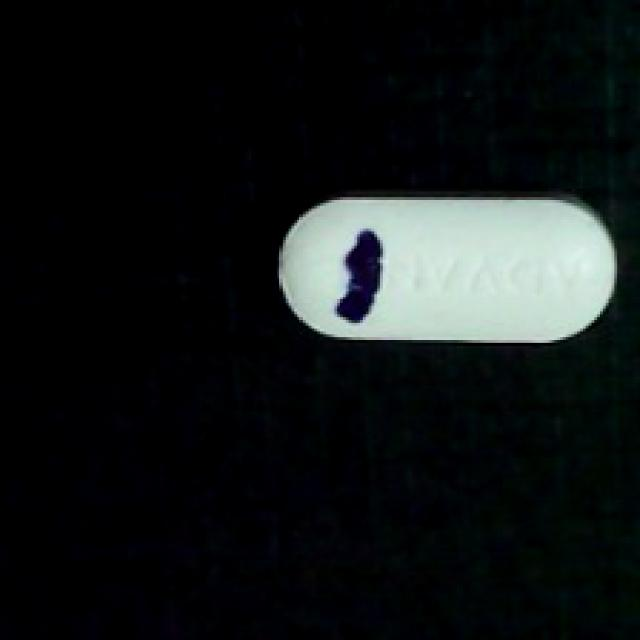defected: (260, 186, 620, 346)
